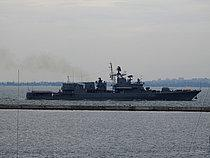MIL_Ship: (22, 63, 200, 102)
